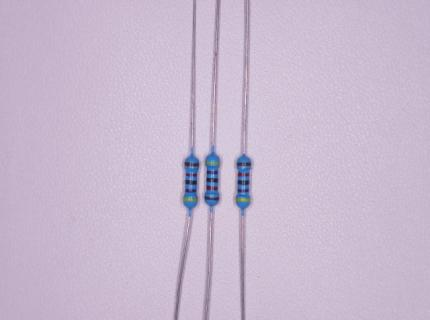Black band: (185, 180, 197, 185), (206, 178, 218, 182), (185, 189, 196, 193)
Brown band: (184, 162, 199, 167), (204, 196, 219, 201), (236, 162, 251, 166), (237, 180, 249, 185)
Red band: (238, 172, 249, 177), (206, 186, 218, 190), (186, 173, 197, 177)
Violet band: (206, 170, 218, 175), (237, 189, 249, 193)
Yellow band: (205, 160, 220, 165), (183, 197, 198, 202), (236, 197, 251, 202)
